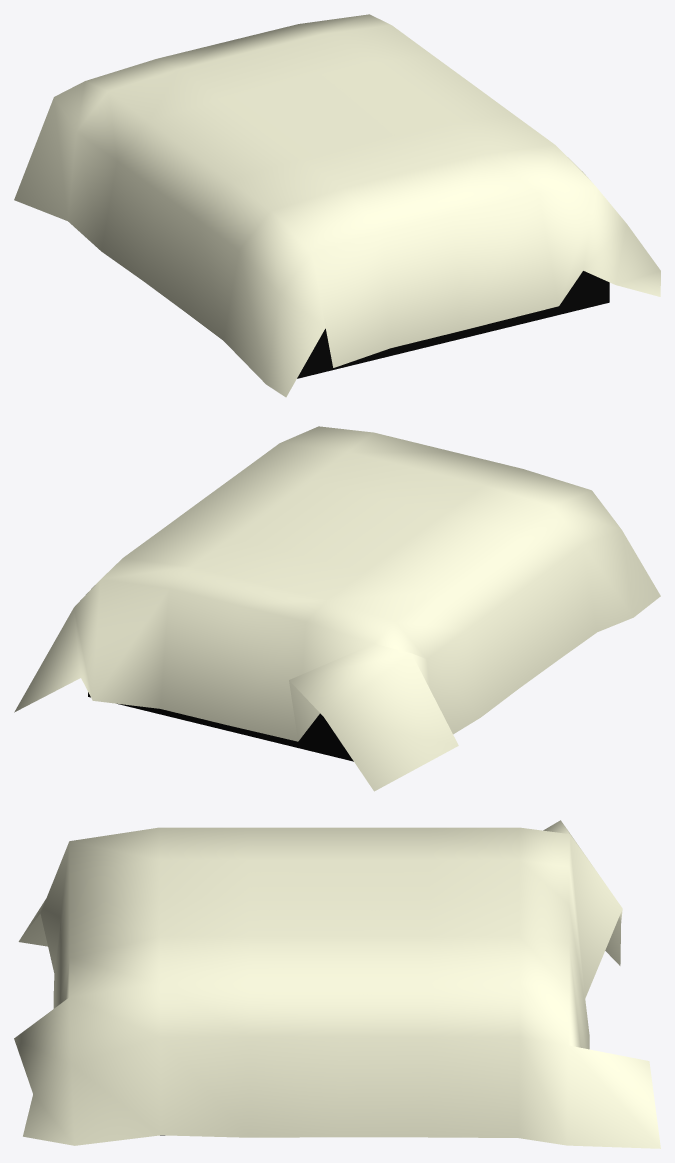
The model's file is Bed.fbx.
3 renders of one model, top to bottom at view 1: azimuth 30°, elevation 25°; view 2: azimuth 150°, elevation 25°; view 3: azimuth 270°, elevation 25°, orthographic. The views are drawn at different scales.
Visible parts, largest first — view 1: Box010; view 2: Box010; view 3: Box010.
Boxes of the visible parts, box(x1,y1,x2,y2) form: Box010: box(14, 14, 660, 397); Box010: box(14, 426, 660, 791); Box010: box(14, 820, 660, 1148).
Size of the model in its own units: 561 by 178 by 662.
